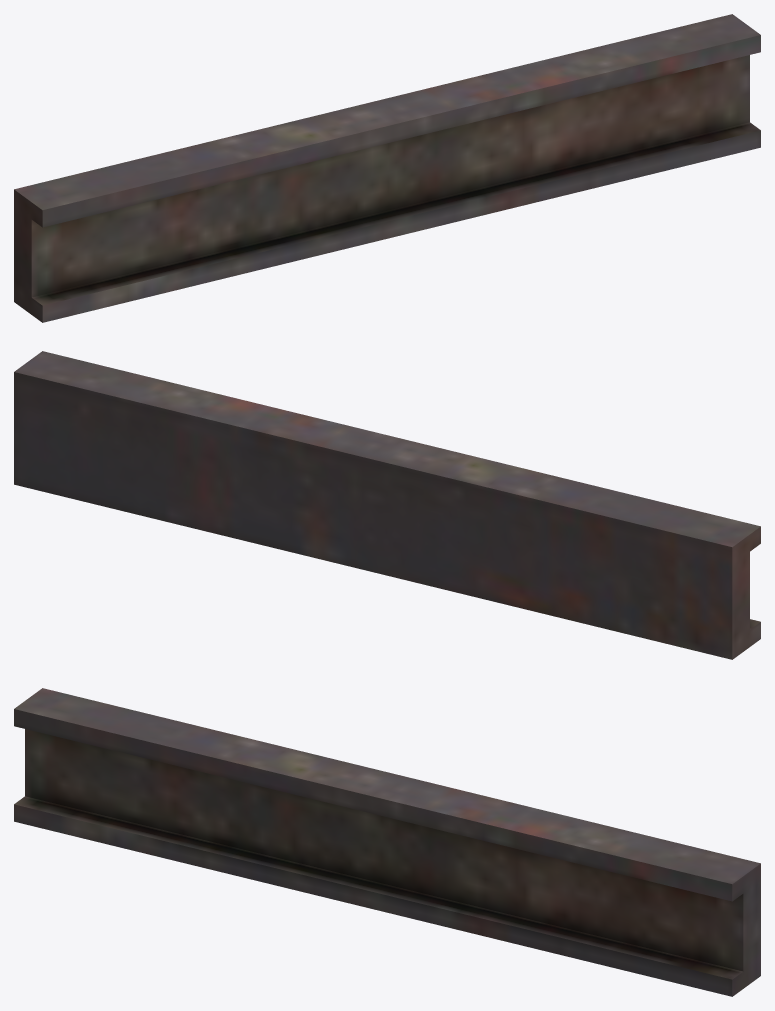
File: H_Support_S_01.FBX
The picture shows the model from 3 angles, top to bottom: view 1: azimuth 30°, elevation 25°; view 2: azimuth 150°, elevation 25°; view 3: azimuth 330°, elevation 25°; orthographic projection.
Parts seen in each view (by area): view 1: H_Support_S_01; view 2: H_Support_S_01; view 3: H_Support_S_01.
Part boxes in pixels (left/top/right/bottom): H_Support_S_01: left=14, top=14, right=760, bottom=322; H_Support_S_01: left=14, top=351, right=760, bottom=659; H_Support_S_01: left=14, top=688, right=760, bottom=996.
Size of the model in its own units: 188 by 28.18 by 12.95.
